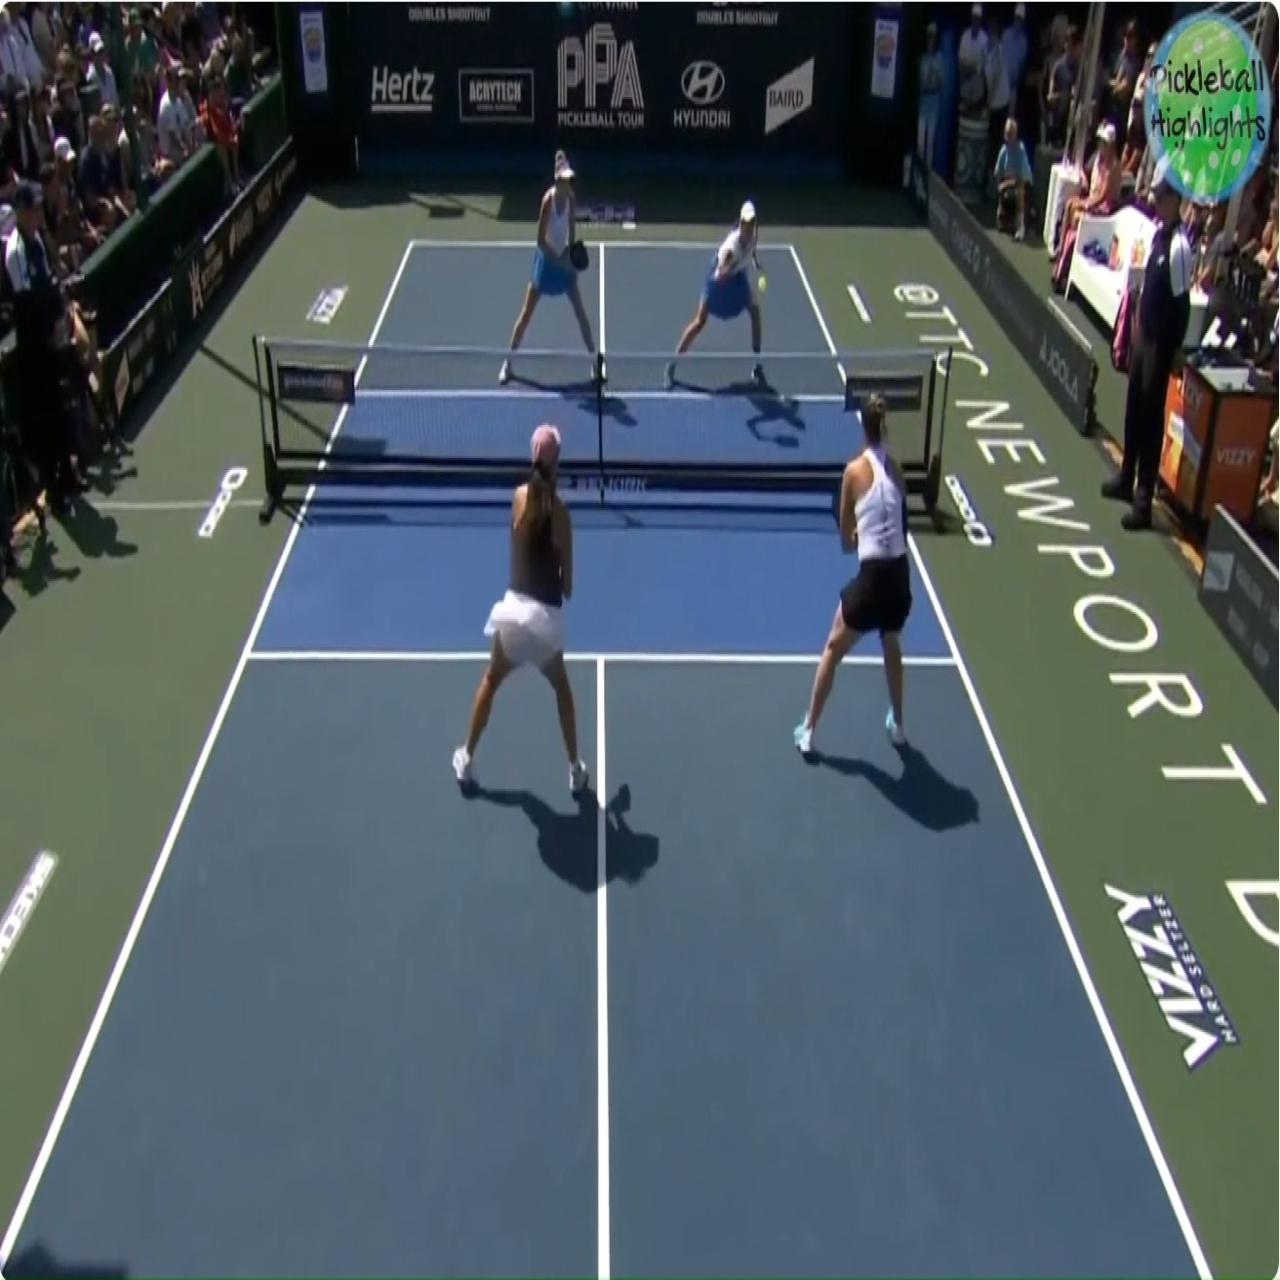pickleball: (757, 274, 768, 292)
